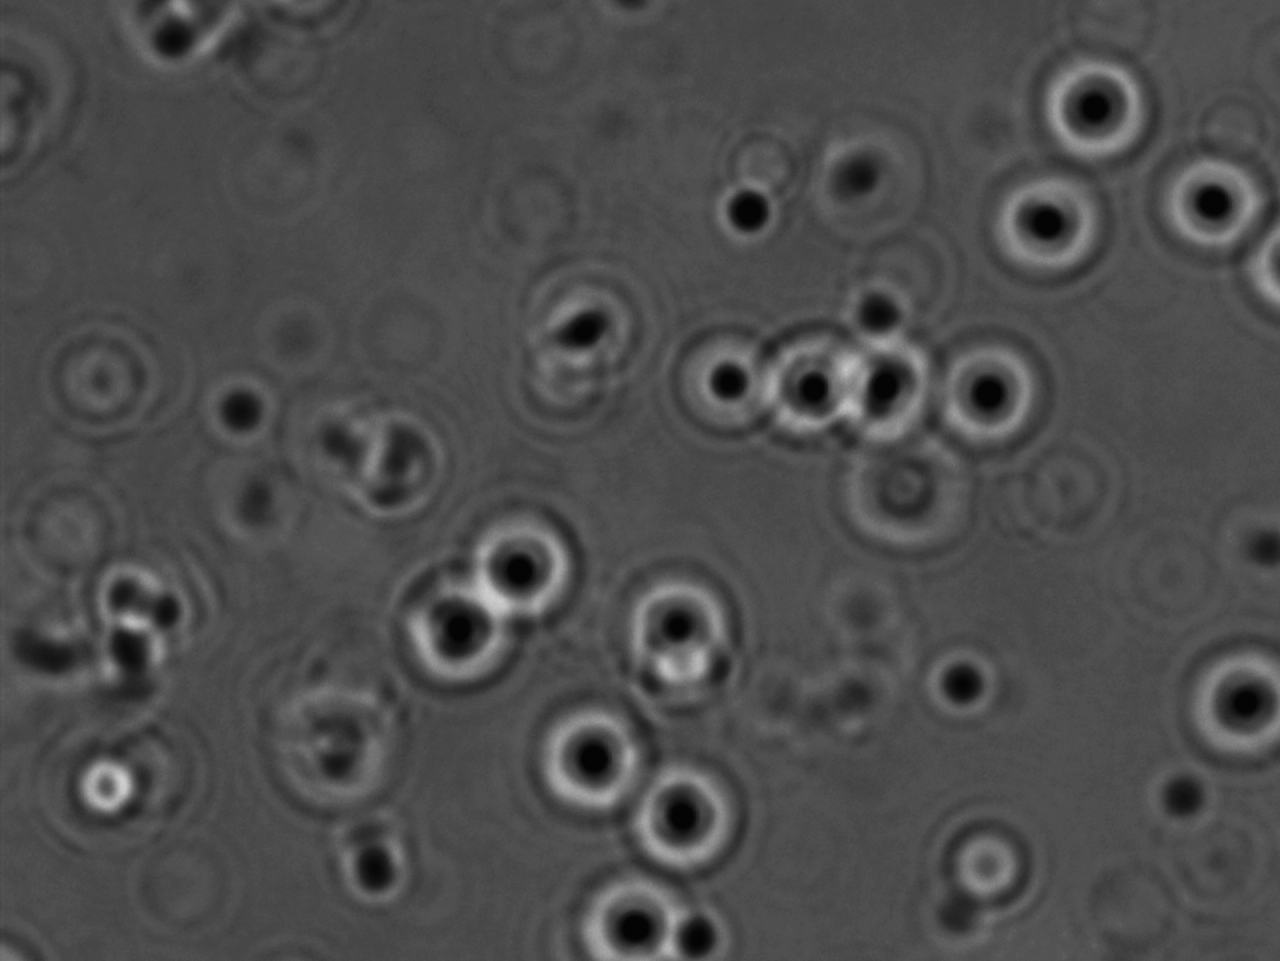depth:-24: (651, 296, 792, 446), (1136, 130, 1272, 286), (750, 310, 881, 465), (519, 680, 659, 821), (1031, 38, 1161, 183), (926, 331, 1059, 469), (456, 491, 586, 625), (609, 748, 751, 868), (382, 569, 525, 687), (611, 562, 743, 681), (576, 859, 728, 961), (987, 163, 1112, 283), (835, 331, 951, 460), (1181, 635, 1280, 767)
